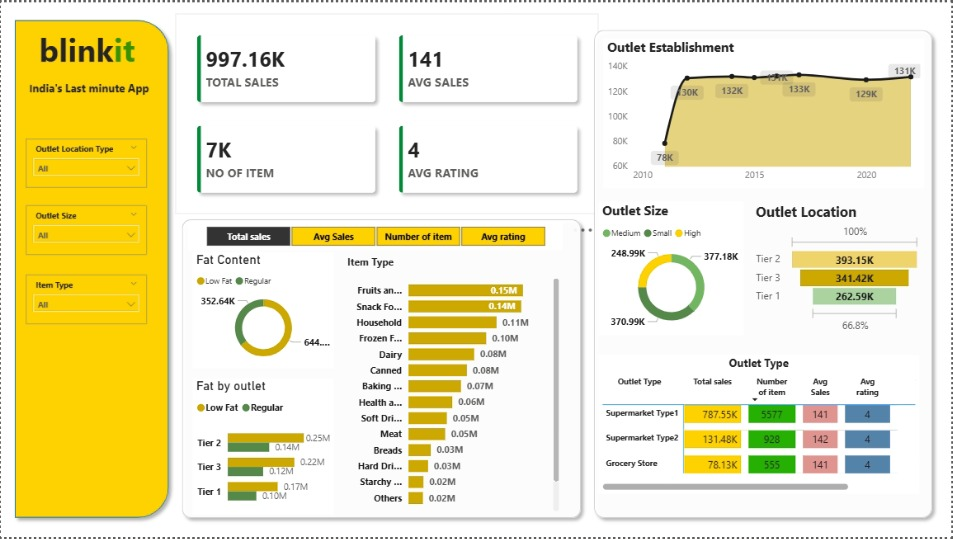

Layout of this report page (visuals, bound fields, positions):
{"tool":"powerbi","page":{"name":"Page 2","canvas":[1280,720],"ordinal":0},"visuals":[{"type":"shape","box":[9.7,14.6,225.1,688.2],"z":0},{"type":"textbox","box":[34,100.4,181.4,38.9],"z":1000},{"type":"textbox","box":[47,29.1,150.6,71.2],"z":2000},{"type":"cardVisual","fields":{"Data":["BlinkIT Grocery Data.Total sales","BlinkIT Grocery Data.Avg Sales","BlinkIT Grocery Data.Number of item","BlinkIT Grocery Data.Avg rating"]},"box":[235,15,570,270],"z":3000},{"type":"shape","box":[235,283.3,555,420],"z":4000},{"type":"donutChart","title":"Fat Content","fields":{"Y":["BlinkIT Grocery Data.Total sales"],"Category":["BlinkIT Grocery Data.Item Fat Content"]},"box":[258.3,336.7,190,156.7],"z":5000},{"type":"slicer","fields":{"Values":["Matrics.Matrics"]},"box":[251.7,295,505,38.3],"z":6000},{"type":"clusteredBarChart","title":"Fat by outlet","fields":{"Y":["BlinkIT Grocery Data.Total sales"],"Category":["BlinkIT Grocery Data.Outlet Location Type"],"Series":["BlinkIT Grocery Data.Item Fat Content"]},"box":[258.3,506.7,190,183.3],"z":7000},{"type":"barChart","title":"Item Type","fields":{"Y":["BlinkIT Grocery Data.Total sales"],"Category":["BlinkIT Grocery Data.Item Type"]},"box":[461.7,340,295,350],"z":8000},{"type":"shape","box":[790,28.3,473.3,675],"z":9000},{"type":"lineChart","title":"Outlet Establishment","fields":{"Y":["BlinkIT Grocery Data.Total sales"],"Category":["BlinkIT Grocery Data.Outlet Establishment Year"]},"box":[811.7,48.3,431.7,201.7],"z":10000},{"type":"donutChart","title":"Outlet Size","fields":{"Y":["BlinkIT Grocery Data.Total sales"],"Category":["BlinkIT Grocery Data.Outlet Size"]},"box":[805,268.3,195,180],"z":11000},{"type":"funnel","title":"Outlet Location","fields":{"Y":["Sum(BlinkIT Grocery Data.Sales)"],"Category":["BlinkIT Grocery Data.Outlet Location Type"]},"box":[1011.7,268.3,231.7,180],"z":12000},{"type":"pivotTable","title":"Outlet Type","fields":{"Rows":["BlinkIT Grocery Data.Outlet Type"],"Values":["BlinkIT Grocery Data.Total sales","BlinkIT Grocery Data.Number of item","BlinkIT Grocery Data.Avg Sales","BlinkIT Grocery Data.Avg rating","Sum(BlinkIT Grocery Data.Item Visibility)"]},"box":[805,475,431.7,186.7],"z":13000},{"type":"slicer","fields":{"Values":["BlinkIT Grocery Data.Outlet Location Type"]},"box":[33.3,183.3,163.3,66.7],"z":14000},{"type":"slicer","fields":{"Values":["BlinkIT Grocery Data.Outlet Size"]},"box":[33.3,273.3,163.3,66.7],"z":15000},{"type":"slicer","fields":{"Values":["BlinkIT Grocery Data.Item Type"]},"box":[33.3,366.7,163.3,66.7],"z":16000}]}

Visuals, with their boxes in screenshot pixels (x1, y1, x2, y2), scaled from the page's 1280x720 canvas onto the 953x539 screenshot:
shape: left=7, top=11, right=175, bottom=526
textbox: left=25, top=75, right=160, bottom=104
textbox: left=35, top=22, right=147, bottom=75
cardVisual - BlinkIT Grocery Data.Total sales x BlinkIT Grocery Data.Avg Sales: left=175, top=11, right=599, bottom=213
shape: left=175, top=212, right=588, bottom=526
"Fat Content" donutChart: left=192, top=252, right=334, bottom=369
slicer - Matrics.Matrics: left=187, top=221, right=563, bottom=250
"Fat by outlet" clusteredBarChart: left=192, top=379, right=334, bottom=517
"Item Type" barChart: left=344, top=255, right=563, bottom=517
shape: left=588, top=21, right=941, bottom=526
"Outlet Establishment" lineChart: left=604, top=36, right=926, bottom=187
"Outlet Size" donutChart: left=599, top=201, right=745, bottom=336
"Outlet Location" funnel: left=753, top=201, right=926, bottom=336
"Outlet Type" pivotTable: left=599, top=356, right=921, bottom=495
slicer - BlinkIT Grocery Data.Outlet Location Type: left=25, top=137, right=146, bottom=187
slicer - BlinkIT Grocery Data.Outlet Size: left=25, top=205, right=146, bottom=255
slicer - BlinkIT Grocery Data.Item Type: left=25, top=275, right=146, bottom=324
